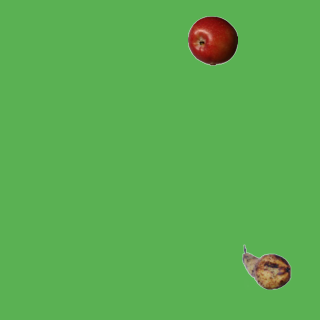Apple Braeburn: (187, 15, 237, 65)
Pear Abate: (241, 242, 291, 292)
